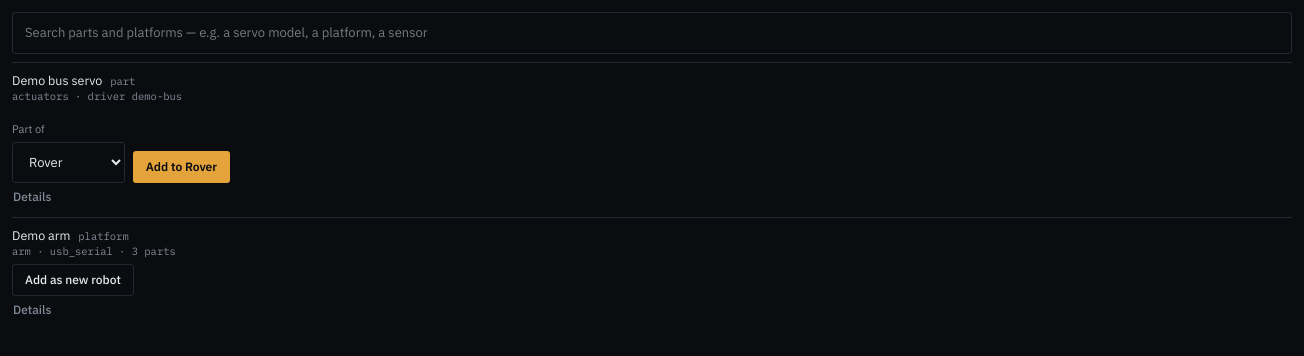
adds a platform as a new robot with an optional name and reports a pending suggestion
Click the button with aria-label "Add Demo arm as new robot": click(73, 280) 12,264 -> 134,296
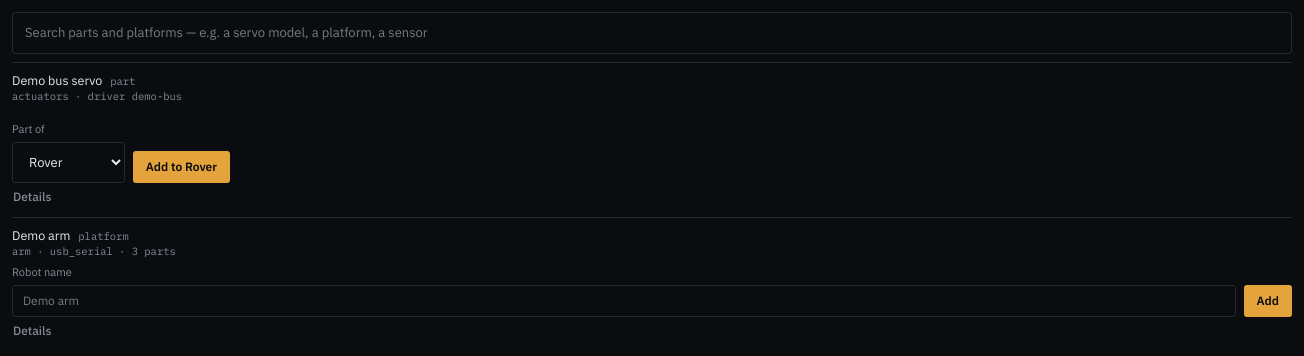
Now the field labelled "Robot name" is empty, box 12,284 -> 1236,316
Click the button "Add": click(1268, 300) 1244,284 -> 1292,316
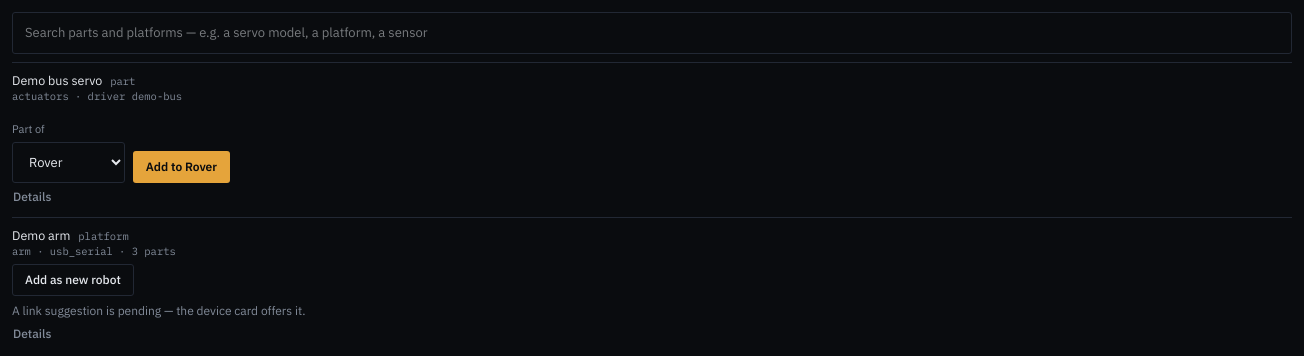
Now the text "A link suggestion is pending — the device card offers it." is shown, box 12,303 -> 305,318
